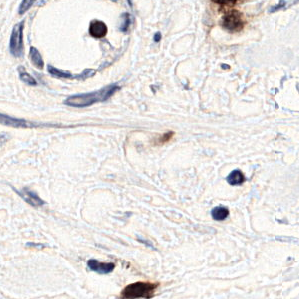Lymphocyte: (122, 281, 159, 299)
